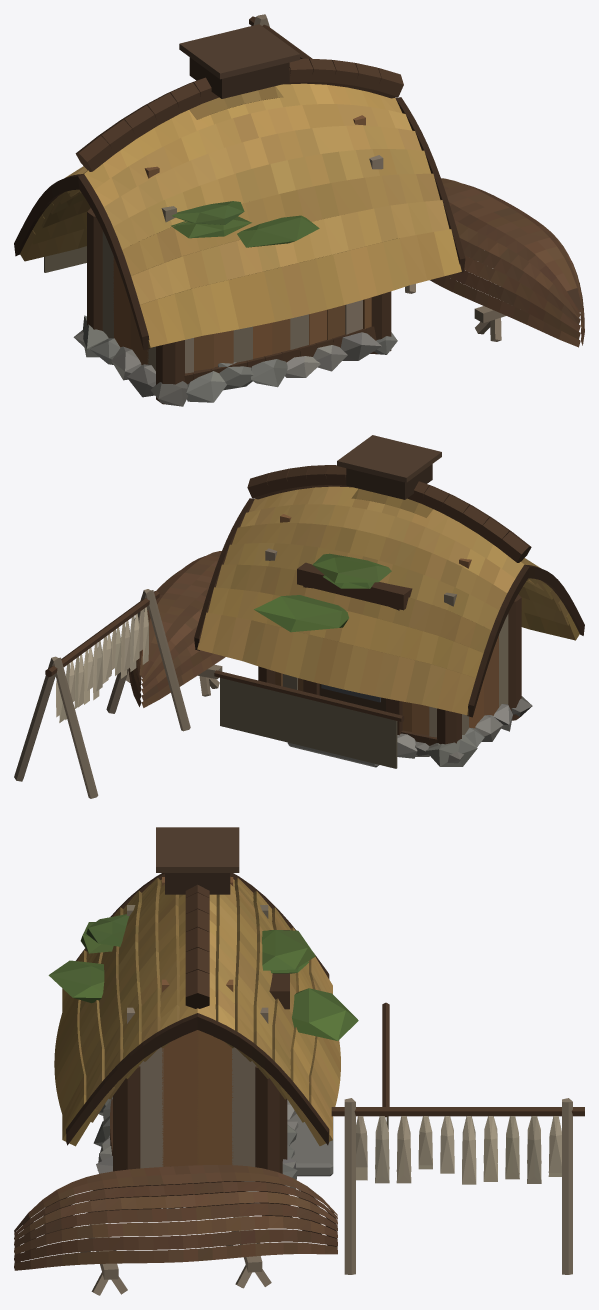
Rendered from Fishery.glb.
The picture shows the model from 3 angles, top to bottom: view 1: azimuth 30°, elevation 25°; view 2: azimuth 150°, elevation 25°; view 3: azimuth 270°, elevation 25°; orthographic projection. The views are drawn at different scales.
Visible parts, largest first — view 1: Mat_Thatch_a18149, Mat_Wood_4d3625, Mat_Wood_7b6444, Mat_Wood_432f21, Mat_Stone_848178, Mat_Stone_6b6a64, Mat_Thatch_84693a, Mat_Leaves_506a33, Mat_Leaves_4b6330, Mat_Leaves_455c2c; view 2: Mat_Thatch_a18149, Mat_Wood_7b6444, Mat_Wood_4d3625, Mat_Wood_432f21, Mat_Stone_848178, Mat_Leaves_4b6330, Mat_Leaves_506a33, Mat_Thatch_84693a, Mat_Stone_6b6a64, Mat_Cloth_c9ba9f, Mat_Cloth_c3b499, Mat_Cloth_cebfa4 (+1 smaller); view 3: Mat_Wood_4d3625, Mat_Wood_7b6444, Mat_Thatch_a18149, Mat_Wood_432f21, Mat_Leaves_506a33, Mat_Thatch_84693a, Mat_Stone_848178, Mat_Leaves_4b6330, Mat_Cloth_cebfa4, Mat_Stone_6b6a64, Mat_Leaves_455c2c, Mat_Cloth_c3b499 (+1 smaller).
Boxes of the visible parts, <box> form: Mat_Thatch_a18149: <box>59,83,461,370</box>; Mat_Wood_4d3625: <box>75,16,584,404</box>; Mat_Wood_7b6444: <box>41,14,584,373</box>; Mat_Wood_432f21: <box>14,57,582,384</box>; Mat_Stone_848178: <box>84,315,381,402</box>; Mat_Stone_6b6a64: <box>73,316,397,406</box>; Mat_Thatch_84693a: <box>20,86,397,347</box>; Mat_Leaves_506a33: <box>171,205,318,247</box>; Mat_Leaves_4b6330: <box>176,204,319,247</box>; Mat_Leaves_455c2c: <box>171,201,294,247</box>; Mat_Thatch_a18149: <box>197,486,538,737</box>; Mat_Wood_7b6444: <box>14,514,575,798</box>; Mat_Wood_4d3625: <box>45,435,531,744</box>; Mat_Wood_432f21: <box>194,464,584,745</box>; Mat_Stone_848178: <box>59,627,512,766</box>; Mat_Leaves_4b6330: <box>254,557,391,632</box>; Mat_Leaves_506a33: <box>254,553,386,627</box>; Mat_Thatch_84693a: <box>299,488,579,715</box>; Mat_Stone_6b6a64: <box>287,696,532,767</box>; Mat_Cloth_c9ba9f: <box>56,613,139,717</box>; Mat_Cloth_c3b499: <box>69,607,148,707</box>; Mat_Cloth_cebfa4: <box>84,636,108,704</box>; Mat_Wood_4d3625: <box>14,827,584,1270</box>; Mat_Wood_7b6444: <box>14,877,572,1295</box>; Mat_Thatch_a18149: <box>54,878,340,1181</box>; Mat_Wood_432f21: <box>14,873,337,1268</box>; Mat_Leaves_506a33: <box>49,914,345,1040</box>; Mat_Thatch_84693a: <box>62,878,332,1146</box>; Mat_Stone_848178: <box>96,1099,561,1208</box>; Mat_Leaves_4b6330: <box>48,915,358,1040</box>; Mat_Cloth_cebfa4: <box>440,1116,497,1184</box>; Mat_Stone_6b6a64: <box>93,1097,333,1194</box>; Mat_Leaves_455c2c: <box>86,919,315,973</box>; Mat_Cloth_c3b499: <box>356,1116,541,1180</box>.
Size of the model in its own units: 14.8 by 9.46 by 15.78.
1 material, 1 textured.
